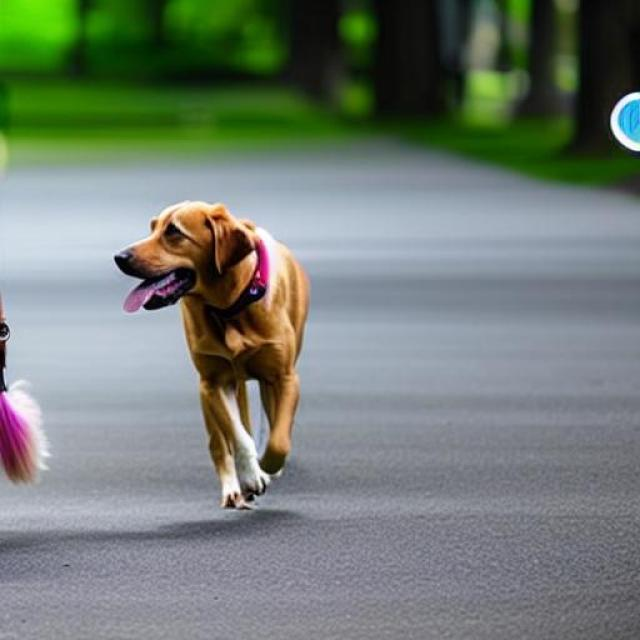Dog: (114, 200, 309, 510)
